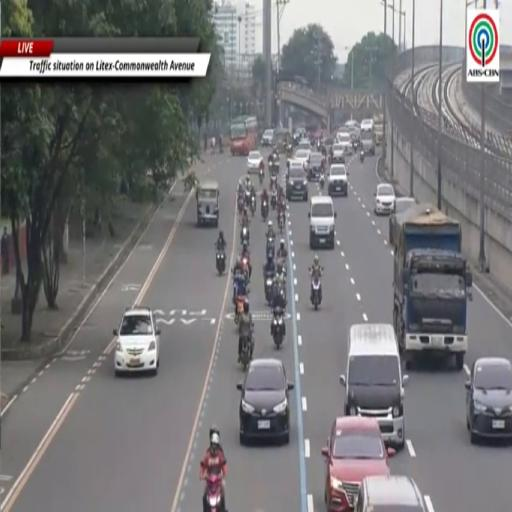bus: (230, 116, 257, 155), (360, 120, 375, 155)
car: (340, 324, 408, 450), (322, 416, 395, 511), (237, 359, 293, 444), (465, 358, 511, 443), (113, 307, 160, 375), (355, 476, 427, 511), (309, 196, 336, 249), (388, 198, 416, 245), (286, 160, 308, 201), (374, 183, 395, 215), (328, 165, 348, 196), (308, 152, 324, 182), (294, 150, 311, 171), (247, 151, 263, 173), (337, 132, 352, 154), (331, 142, 345, 163), (260, 128, 274, 147), (298, 138, 311, 150), (505, 129, 512, 141)
jeepney: (196, 181, 219, 227), (274, 130, 291, 154)
motorcycle: (205, 472, 226, 511), (272, 309, 285, 348), (241, 334, 251, 371), (311, 276, 321, 310), (274, 283, 286, 310), (235, 296, 245, 324), (265, 272, 273, 303), (216, 250, 225, 275), (242, 256, 250, 282), (277, 258, 287, 277), (266, 237, 275, 258), (261, 200, 269, 220), (241, 227, 249, 245), (278, 211, 284, 233), (238, 196, 244, 215), (245, 189, 251, 206), (271, 190, 276, 210), (270, 174, 276, 189), (319, 172, 324, 189), (251, 196, 255, 216), (259, 169, 264, 185), (286, 146, 292, 157), (360, 151, 364, 163)
truck: (393, 203, 472, 370), (375, 115, 383, 146)
